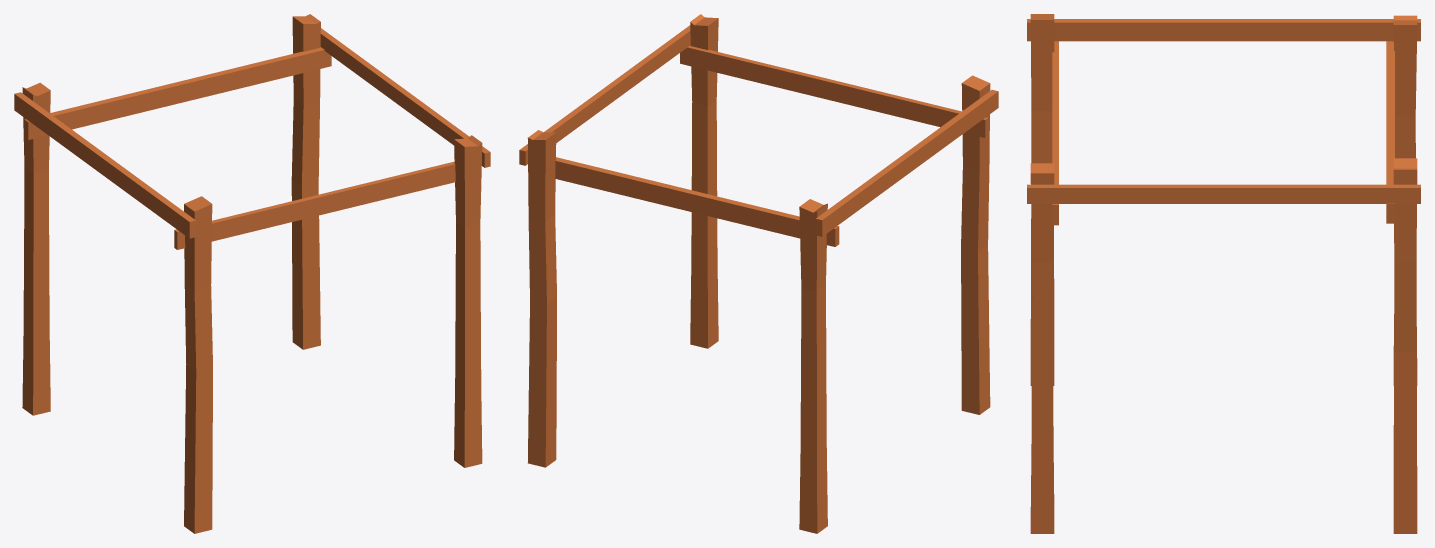
File: WoodBase1.fbx
3 views of the same model, side by side, from view 1: azimuth 30°, elevation 25°; view 2: azimuth 150°, elevation 25°; view 3: azimuth 270°, elevation 25° (orthographic). The views are drawn at different scales.
Parts seen in each view (by area): view 1: WoodBase1; view 2: WoodBase1; view 3: WoodBase1.
Part boxes in pixels (x1=…): WoodBase1: x1=14, y1=14, x2=490, y2=533; WoodBase1: x1=519, y1=14, x2=998, y2=533; WoodBase1: x1=1027, y1=14, x2=1420, y2=533.
Size of the model in its own units: 200 by 205 by 200.
